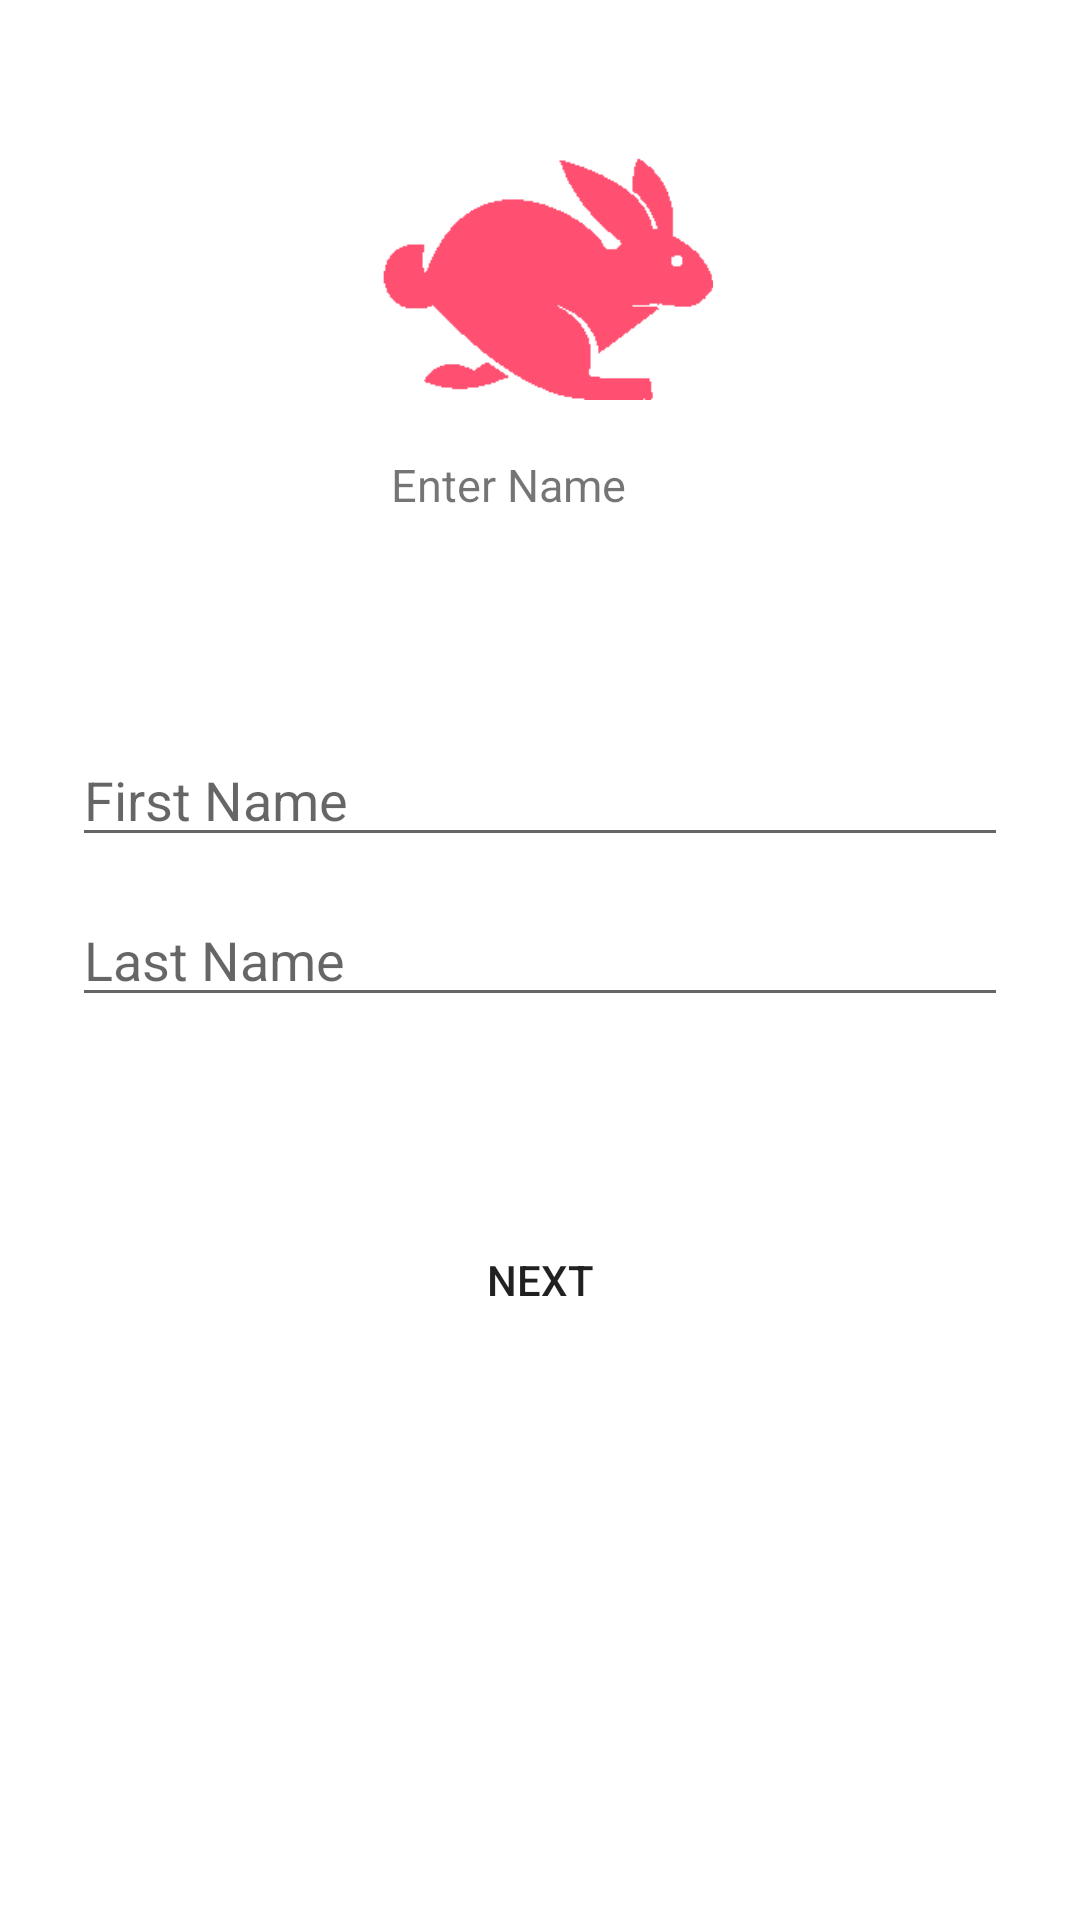

Named icons in this screenshot (1080w x 1920h) and their centers, (x=x, y=y):
pinkwabbit: (x=548, y=279)
